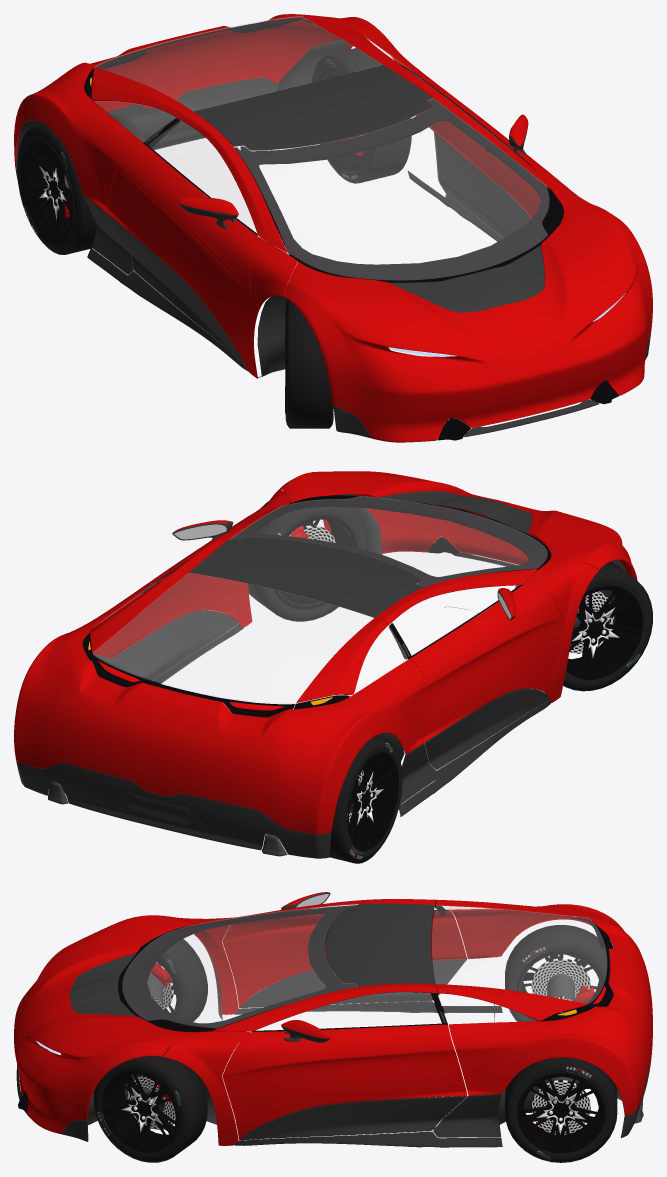
Rendered from car-concept.glb.
3 views of the same model, one above another, from view 1: azimuth 30°, elevation 25°; view 2: azimuth 150°, elevation 25°; view 3: azimuth 270°, elevation 25° (orthographic). The views are drawn at different scales.
Parts seen in each view (by area): view 1: BodyHood, BodyWindshield, BodyRearPanelsColor1, BodyRearwindow, BodyDoorRColor1, BodyWindshieldGasket, BodyRoofPanel, BodyPanelsColor2, BodyPillars, BodyHoodTopgrill, WheelFrontR, BodyDoorLColor2 (+11 smaller); view 2: BodyRearPanelsColor1, BodyRearwindow, BodyWindshield, BodyPanelsColor2, BodyDoorRColor1, BodyHood, BodyRoofPanel, BodyPillars, BodyWindshieldGasket, WheelFrontRRim, BodyDoorLColor1, BodyDoorLColor2 (+11 smaller); view 3: BodyRearPanelsColor1, BodyWindshield, BodyDoorLColor1, BodyHood, BodyRearwindow, BodyPillars, BodyRoofPanel, BodyPanelsColor2, BodyDoorRColor1, BodyWindshieldGasket, BodyDoorLColor2, WheelFrontL (+17 smaller).
Boxes of the visible parts, left/top/right/bottom form: BodyHood: left=283, top=198, right=652, bottom=442; BodyWindshield: left=234, top=98, right=549, bottom=280; BodyRearPanelsColor1: left=14, top=14, right=434, bottom=210; BodyRearwindow: left=95, top=16, right=382, bottom=110; BodyDoorRColor1: left=104, top=143, right=257, bottom=362; BodyWindshieldGasket: left=234, top=99, right=563, bottom=282; BodyRoofPanel: left=193, top=65, right=432, bottom=150; BodyPanelsColor2: left=15, top=77, right=651, bottom=438; BodyPillars: left=176, top=61, right=598, bottom=378; BodyHoodTopgrill: left=388, top=245, right=544, bottom=312; WheelFrontR: left=285, top=299, right=333, bottom=428; BodyDoorLColor2: left=434, top=132, right=531, bottom=238; BodyRearPanelsColor1: left=14, top=569, right=425, bottom=834; BodyRearwindow: left=92, top=573, right=373, bottom=703; BodyWindshield: left=229, top=496, right=547, bottom=587; BodyPanelsColor2: left=16, top=552, right=550, bottom=858; BodyDoorRColor1: left=409, top=585, right=562, bottom=742; BodyHood: left=279, top=471, right=637, bottom=580; BodyRoofPanel: left=189, top=537, right=422, bottom=617; BodyPillars: left=175, top=489, right=599, bottom=702; BodyWindshieldGasket: left=230, top=495, right=550, bottom=587; WheelFrontRRim: left=566, top=585, right=643, bottom=679; BodyDoorLColor1: left=106, top=517, right=250, bottom=658; BodyDoorLColor2: left=112, top=610, right=238, bottom=681; BodyRearPanelsColor1: left=436, top=899, right=652, bottom=1115; BodyWindshield: left=122, top=904, right=357, bottom=1028; BodyDoorLColor1: left=222, top=1024, right=467, bottom=1139; BodyHood: left=14, top=915, right=196, bottom=1133; BodyRearwindow: left=432, top=905, right=606, bottom=1003; BodyPillars: left=163, top=899, right=437, bottom=1145; BodyRoofPanel: left=326, top=903, right=434, bottom=986; BodyPanelsColor2: left=16, top=957, right=652, bottom=1147; BodyDoorRColor1: left=222, top=909, right=467, bottom=1007; BodyWindshieldGasket: left=118, top=905, right=357, bottom=1032; BodyDoorLColor2: left=240, top=1096, right=467, bottom=1140; WheelFrontL: left=93, top=1050, right=207, bottom=1162.
Size of the model in its own units: 2.54 by 1.15 by 4.36.
15 materials, 4 textured.
